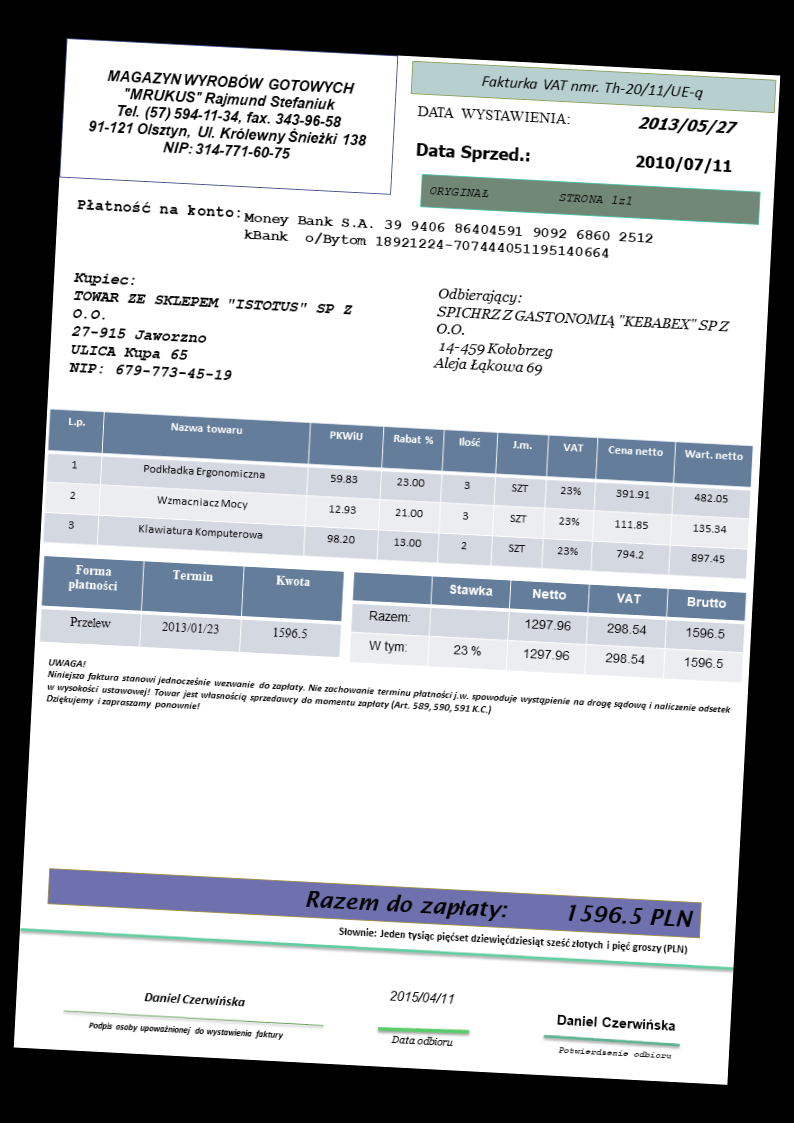Table: (41, 407, 758, 584), (348, 569, 748, 687), (39, 553, 346, 659)
TextBox: (41, 654, 734, 744), (65, 270, 357, 390), (430, 284, 733, 388), (82, 65, 376, 169), (242, 209, 656, 263), (299, 884, 697, 934), (334, 922, 691, 957), (477, 71, 707, 104), (428, 180, 636, 209), (85, 1018, 286, 1044), (414, 100, 573, 130), (72, 194, 245, 221), (413, 138, 533, 166), (553, 1011, 678, 1036), (631, 112, 740, 138), (631, 151, 735, 178), (553, 1042, 675, 1061), (140, 988, 247, 1008), (386, 987, 456, 1006), (389, 1033, 456, 1048)
